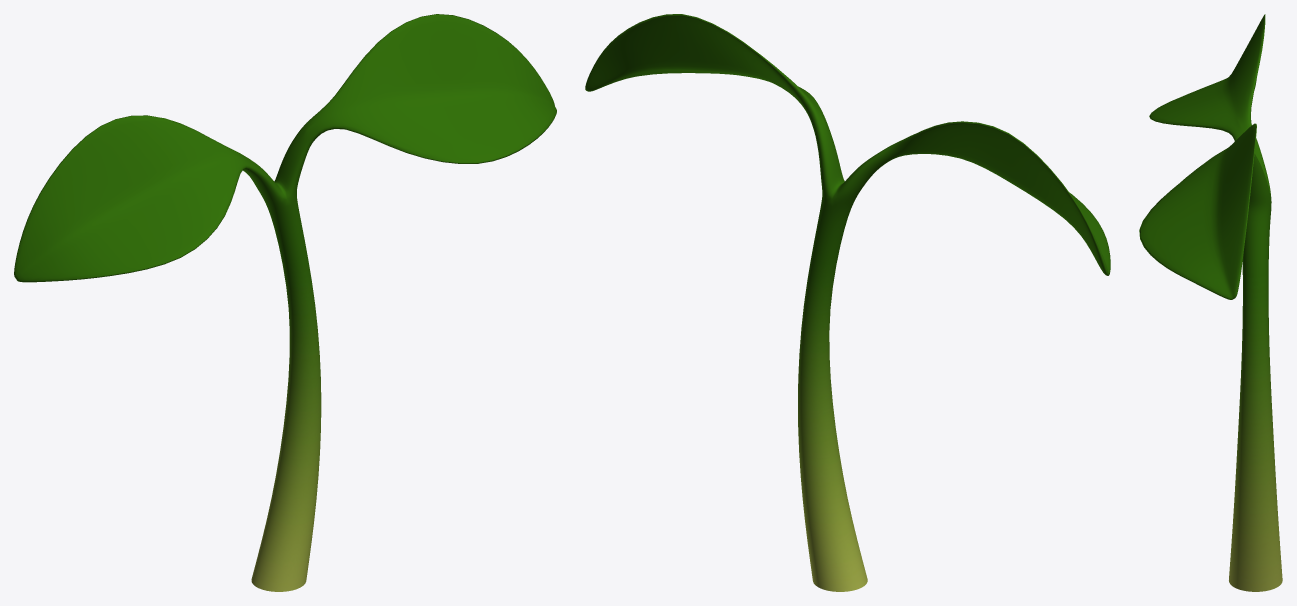
The model's file is sprout.FBX.
3 renders of one model, left to right at view 1: azimuth 30°, elevation 25°; view 2: azimuth 150°, elevation 25°; view 3: azimuth 270°, elevation 25°, orthographic. The views are drawn at different scales.
Visible parts, largest first — view 1: seeding; view 2: seeding; view 3: seeding.
Boxes of the visible parts, x1,y1,x2,y2 form: seeding: [14, 14, 556, 591]; seeding: [585, 14, 1110, 591]; seeding: [1139, 14, 1282, 591].
Bounding box in the file's own units: 51.85 × 49.31 × 12.37.
